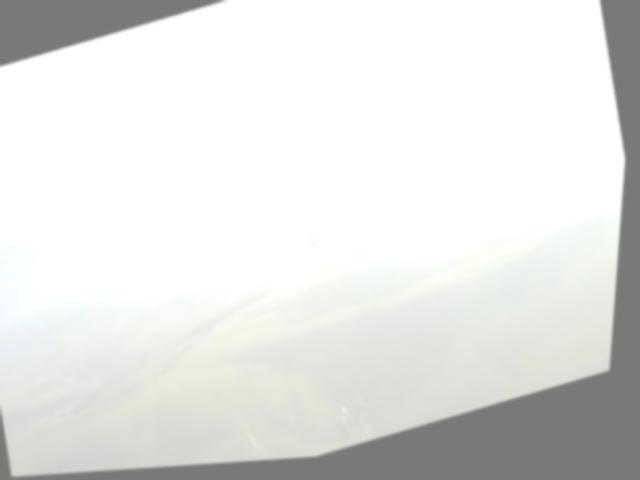iha: (271, 218, 359, 268)
